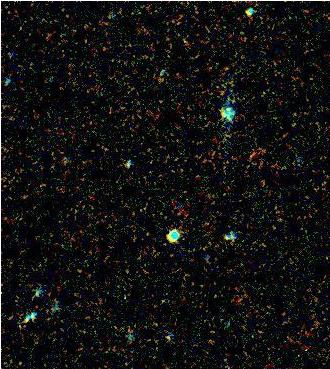star: (209, 92, 239, 122)
